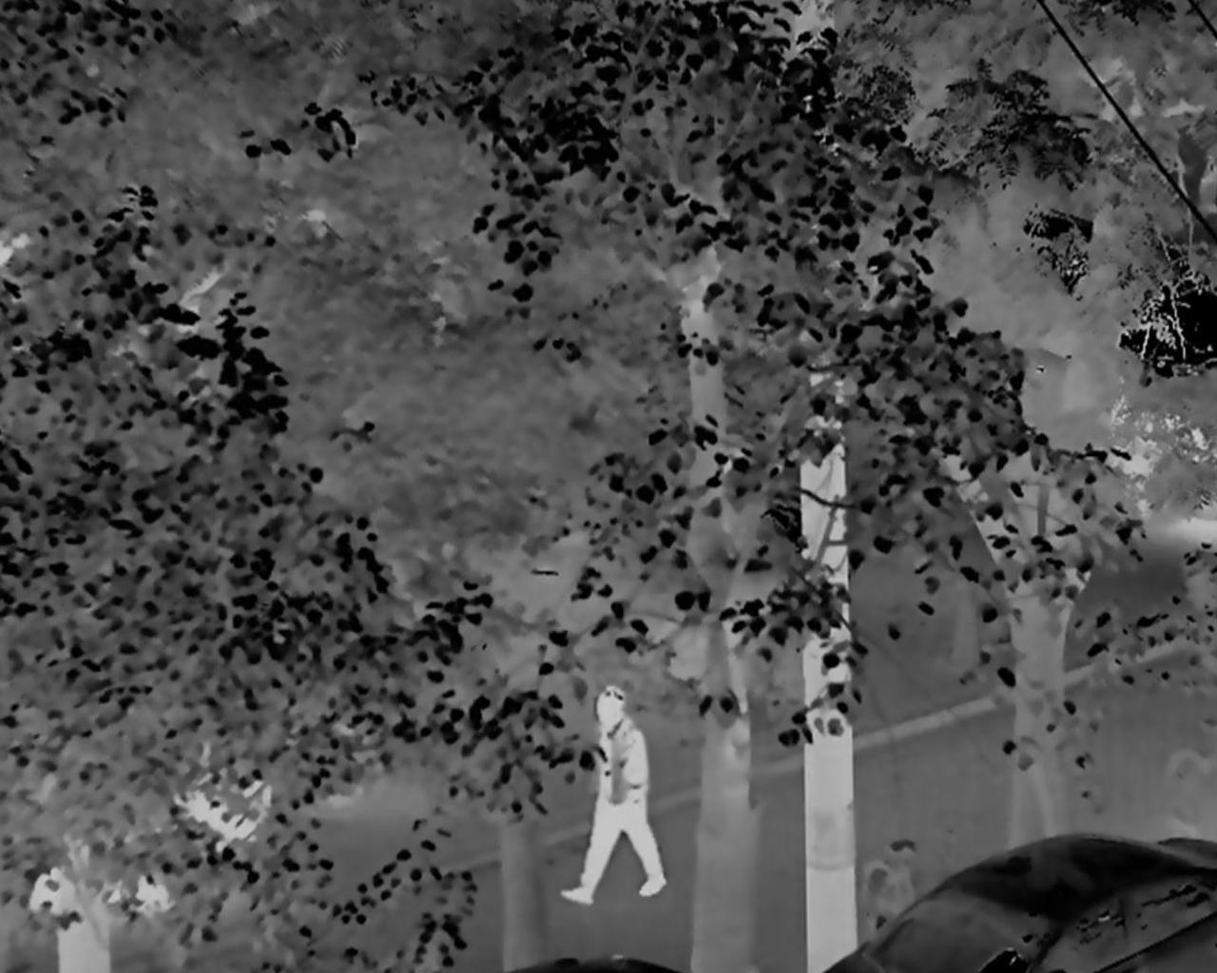person: (561, 682, 666, 910)
